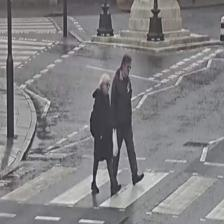person: (110, 54, 144, 192), (90, 72, 121, 195)
